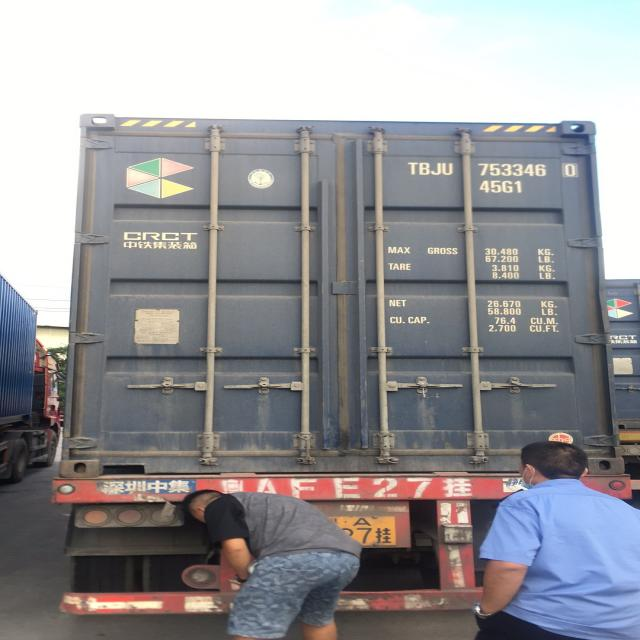seal: (416, 374, 437, 404)
